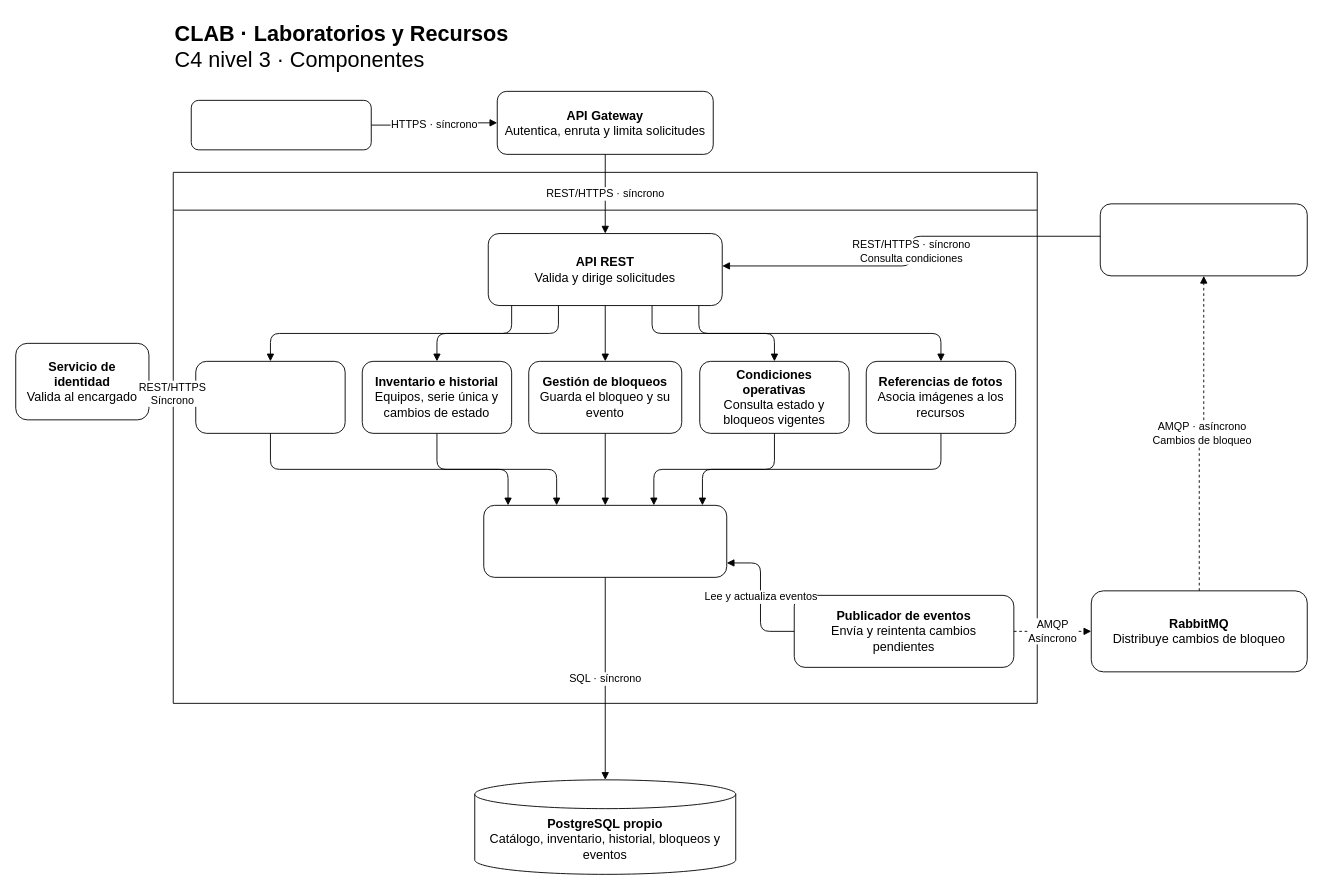
Image size: 1323x890. Some labels were removed from this diagram. Each missing label, with the box of its shape:
Catálogo y encargados Gestiona laboratorios y asignaciones: (195, 360, 345, 433)
Clientes web y móvil: (190, 99, 371, 150)
Laboratorios y Recursos · Aplicación Spring Boot: (172, 171, 1037, 703)
Repositorios Consultan y persisten los datos propios: (483, 504, 727, 577)
Reservas y Agenda Consulta restricciones y reevalúa reservas: (1099, 203, 1307, 276)
